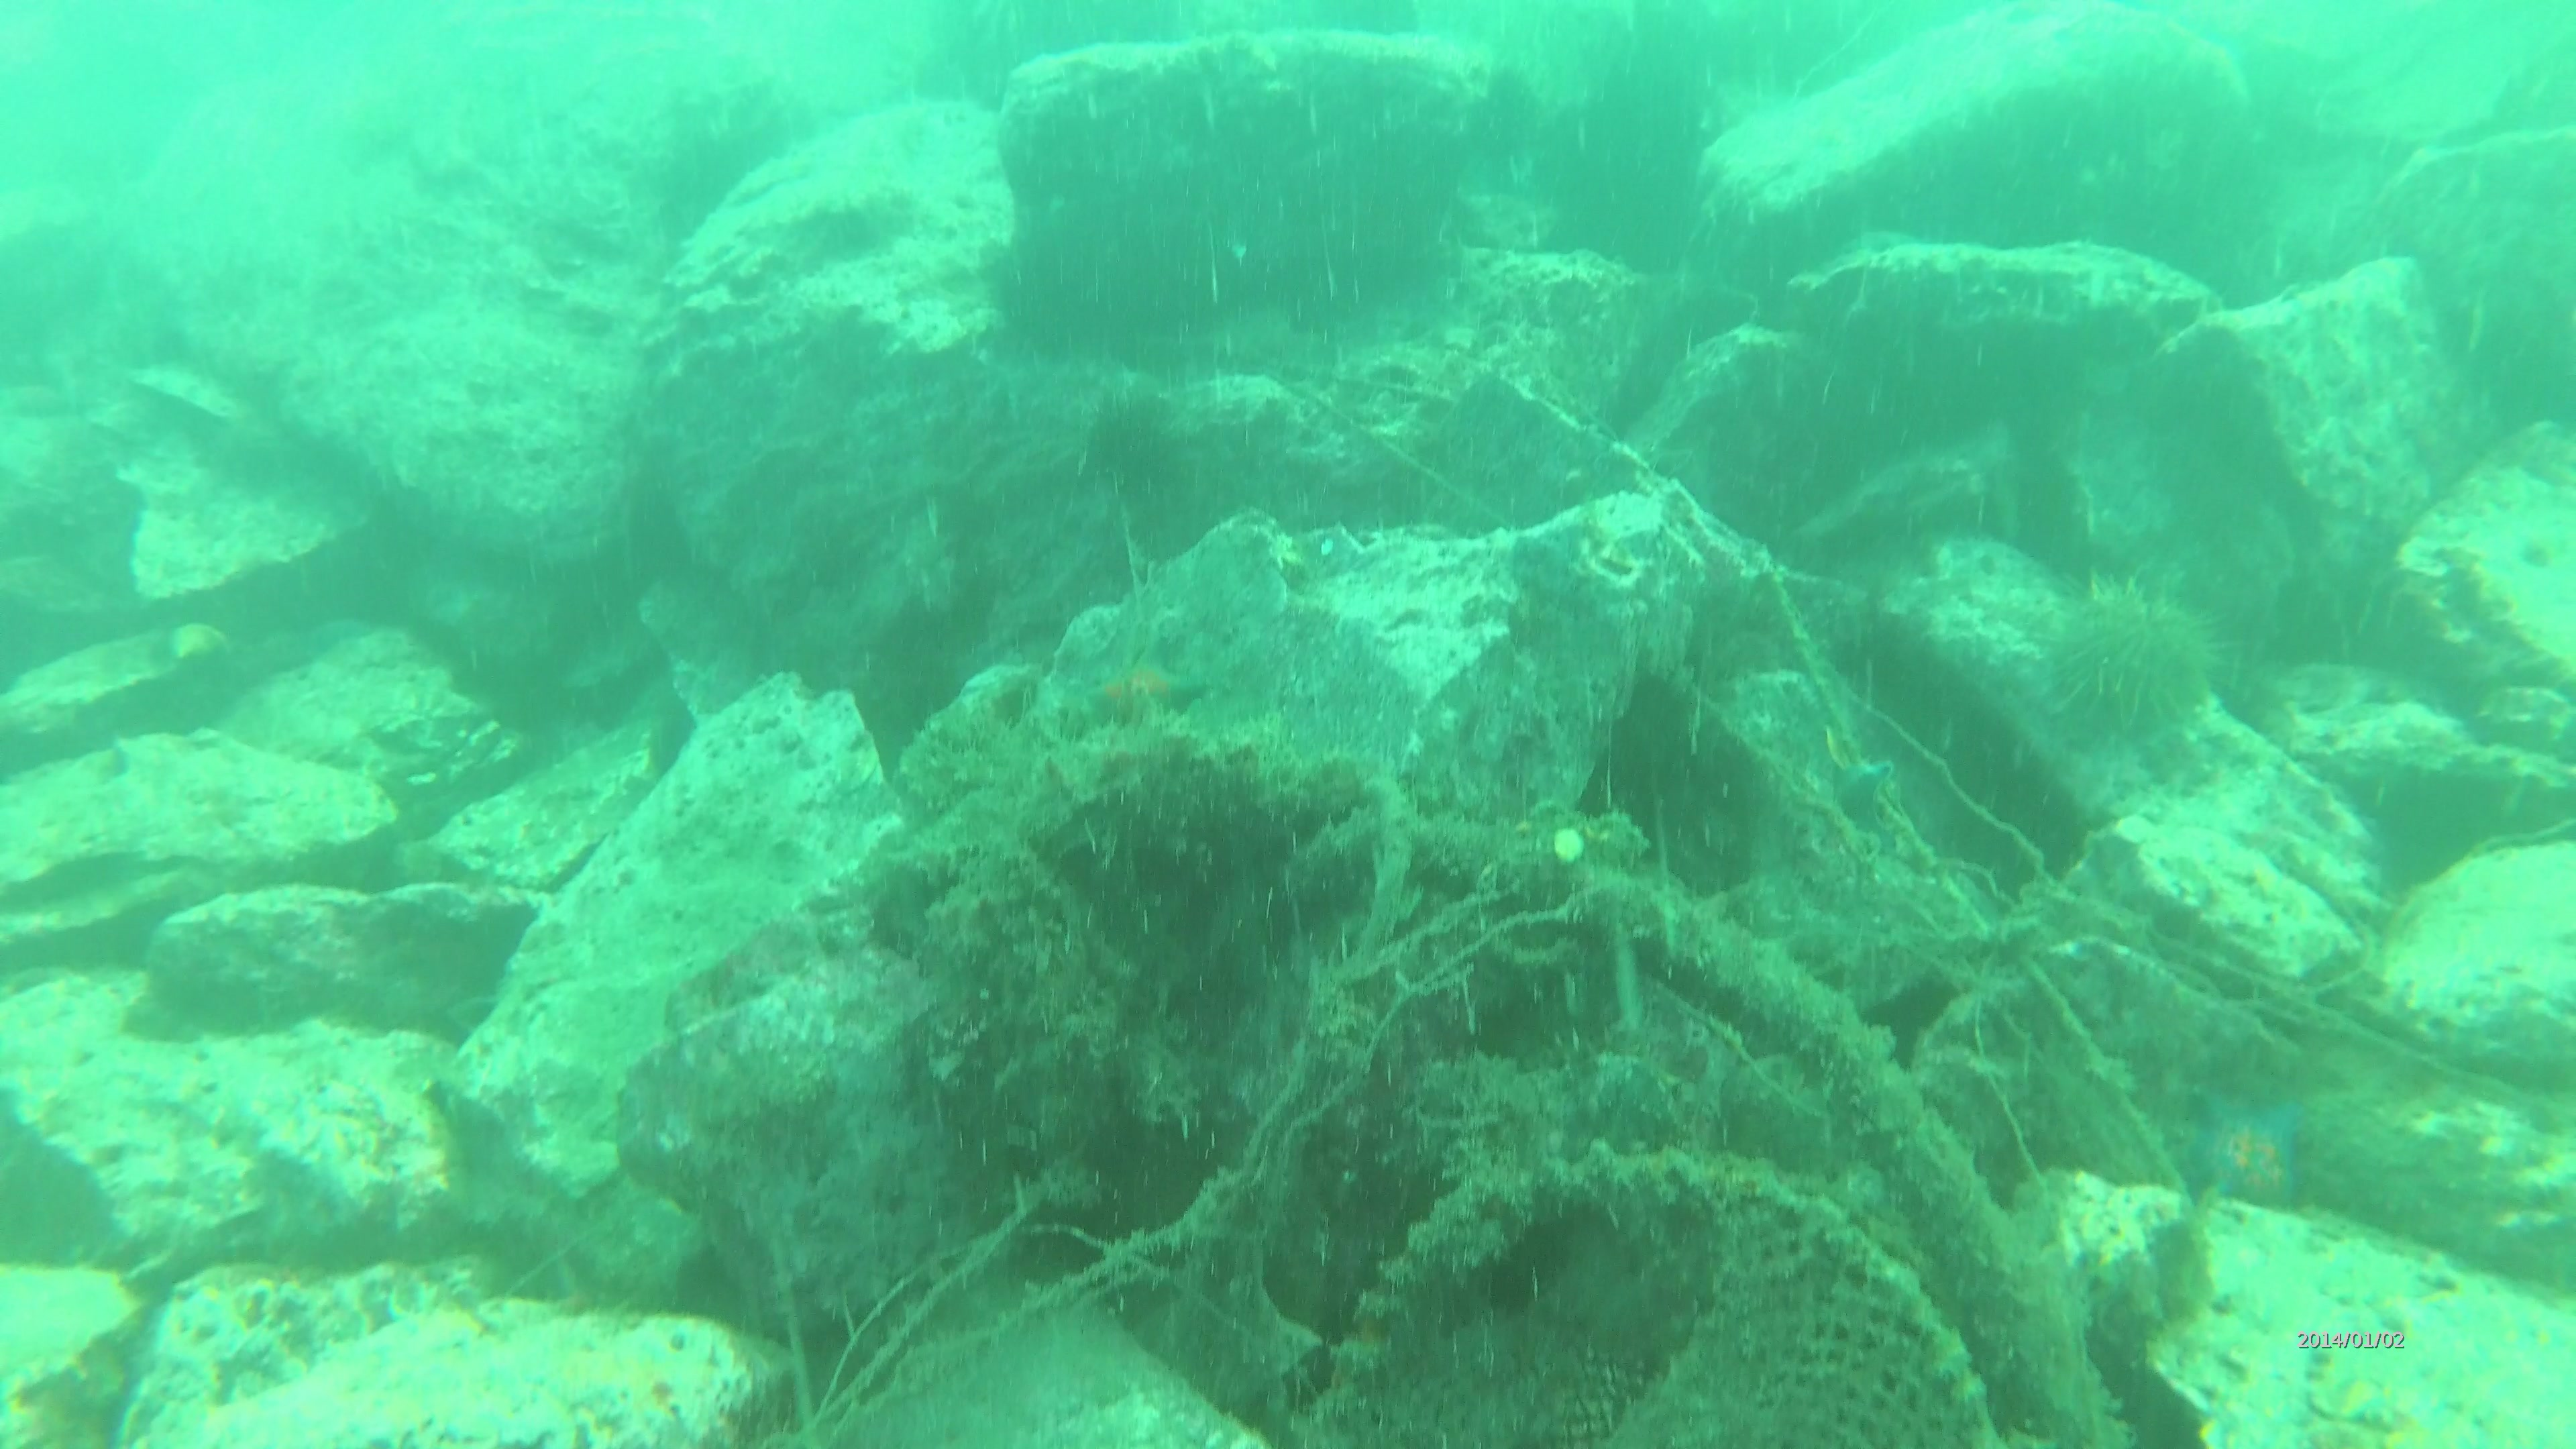echinus: (2063, 594, 2235, 732), (1067, 403, 1177, 481)
starfish: (2192, 1074, 2305, 1212), (1085, 644, 1214, 748)
